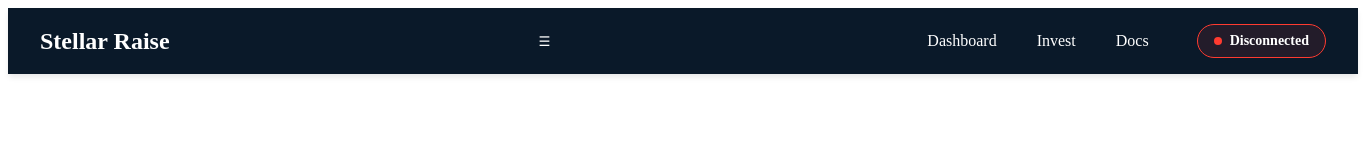
Scenario: 3. Mobile Menu Toggle – State › 3.3 clicking toggle opens the menu: aria-expanded becomes "true"
Step 1. Click the button named "toggle navigation menu" → (544, 41), box [530,26,558,56]
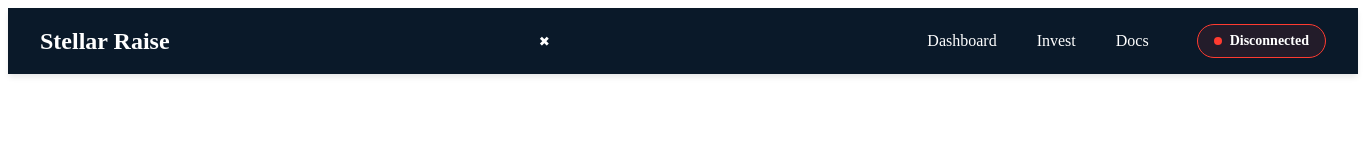
Now the button named "toggle navigation menu" is expanded, box [531,26,558,56]
